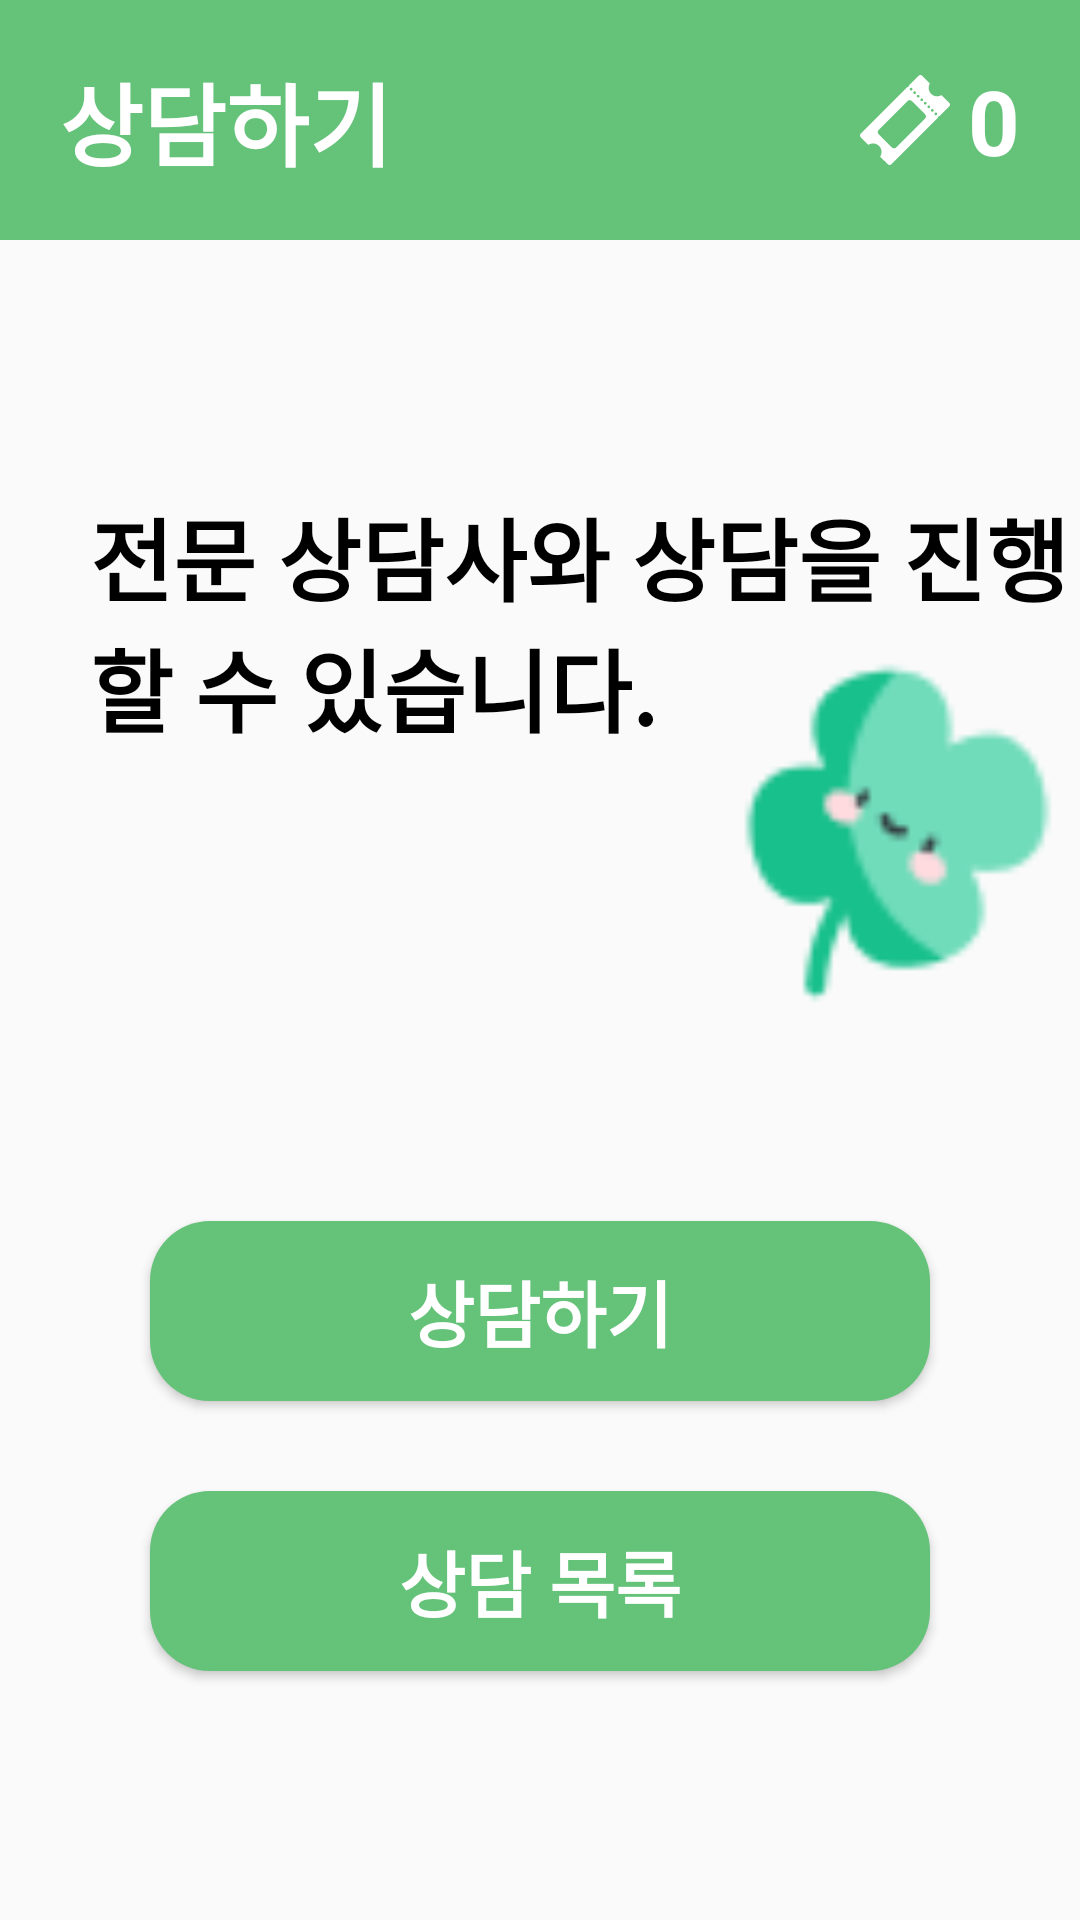

Named icons in this screenshot (1080px×1920px) and their bounding boxes, (x1, y1, x2, y2):
clover angle: (745, 666, 1050, 1000)
ticket: (860, 75, 950, 165)
